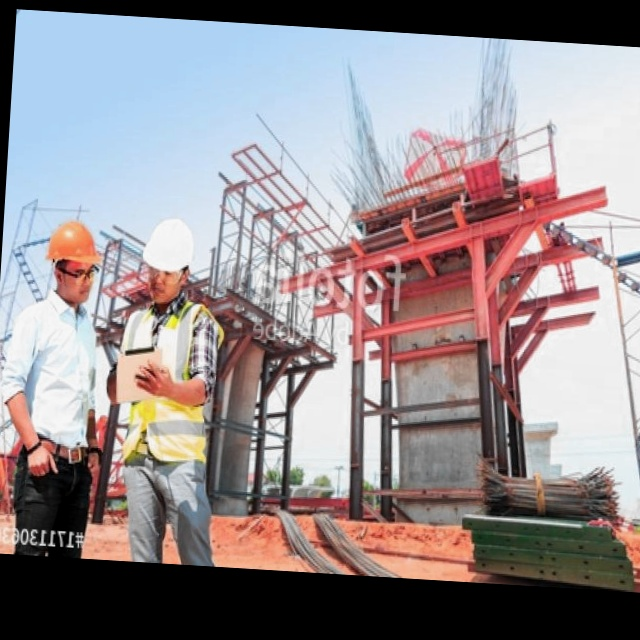Con_Chaleco: (115, 299, 211, 466)
Sin_Chaleco: (5, 299, 100, 460)
